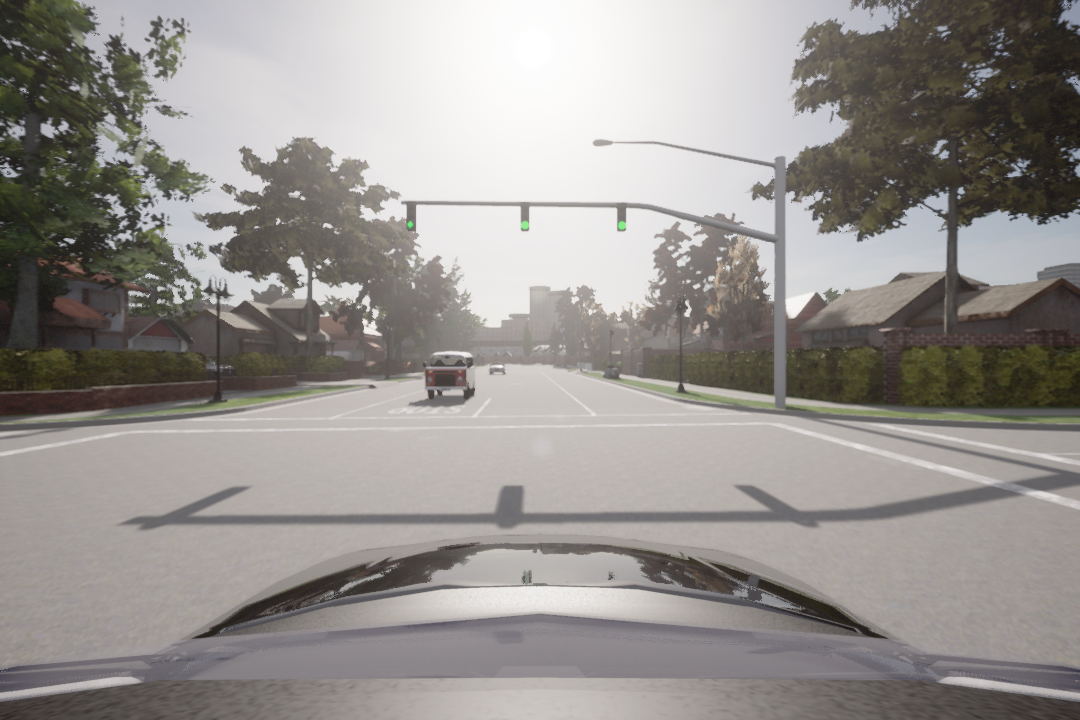TrafficLight: (405, 200, 420, 234), (519, 200, 533, 234), (617, 203, 628, 232)
